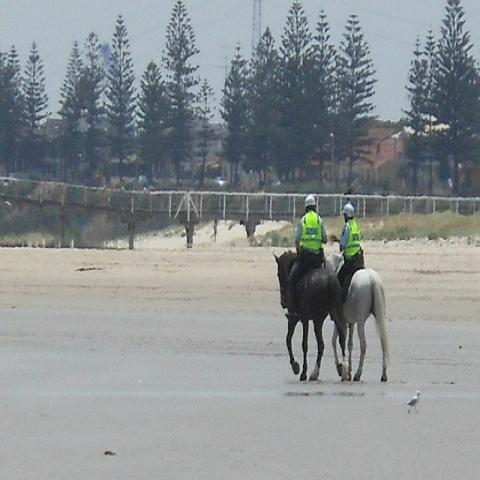car: (213, 176, 227, 186), (149, 185, 155, 191)
